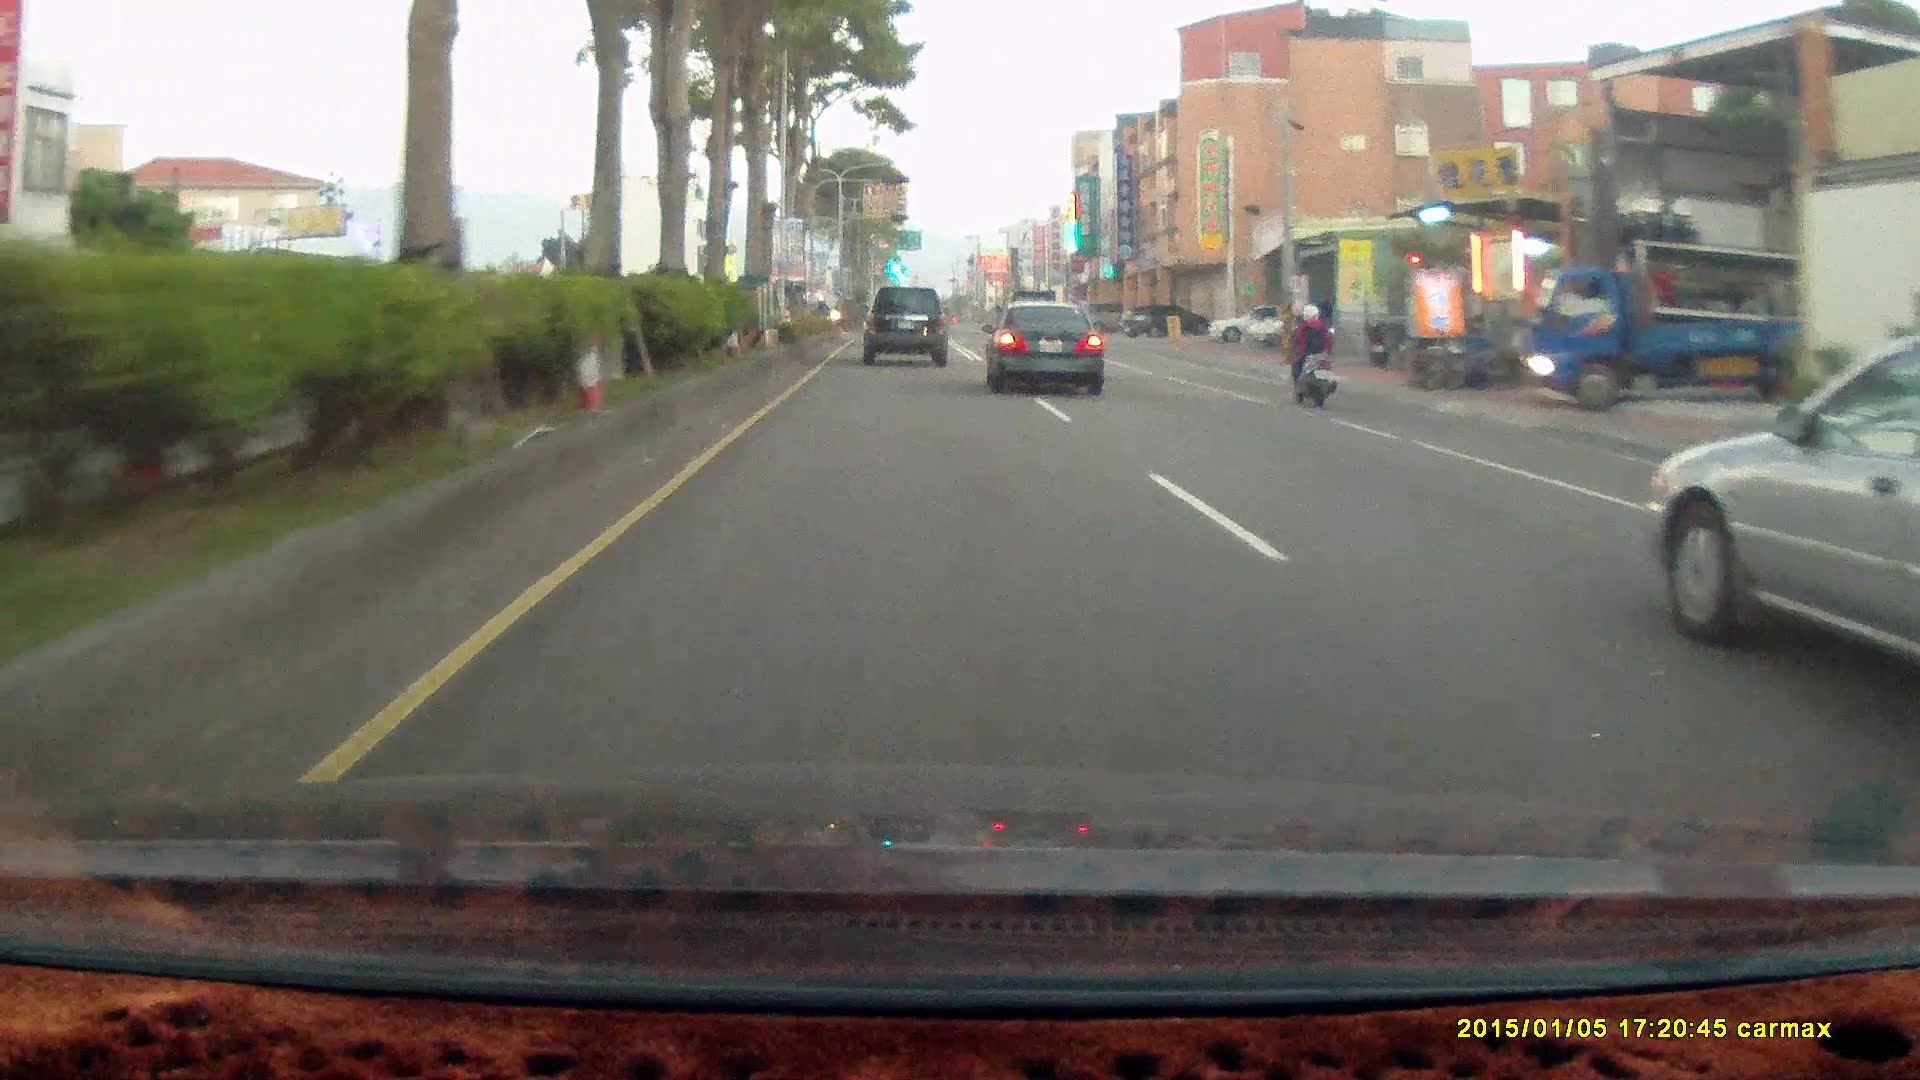rider: (1274, 291, 1350, 422), (1279, 300, 1338, 403)
vehicle: (1649, 336, 1920, 706), (1644, 339, 1920, 694), (1516, 237, 1817, 410), (1512, 268, 1852, 411), (988, 297, 1110, 394), (979, 298, 1104, 393), (867, 282, 952, 367), (861, 282, 948, 364), (1295, 296, 1402, 351), (1208, 303, 1310, 343), (1120, 304, 1209, 338), (1077, 296, 1142, 332)
